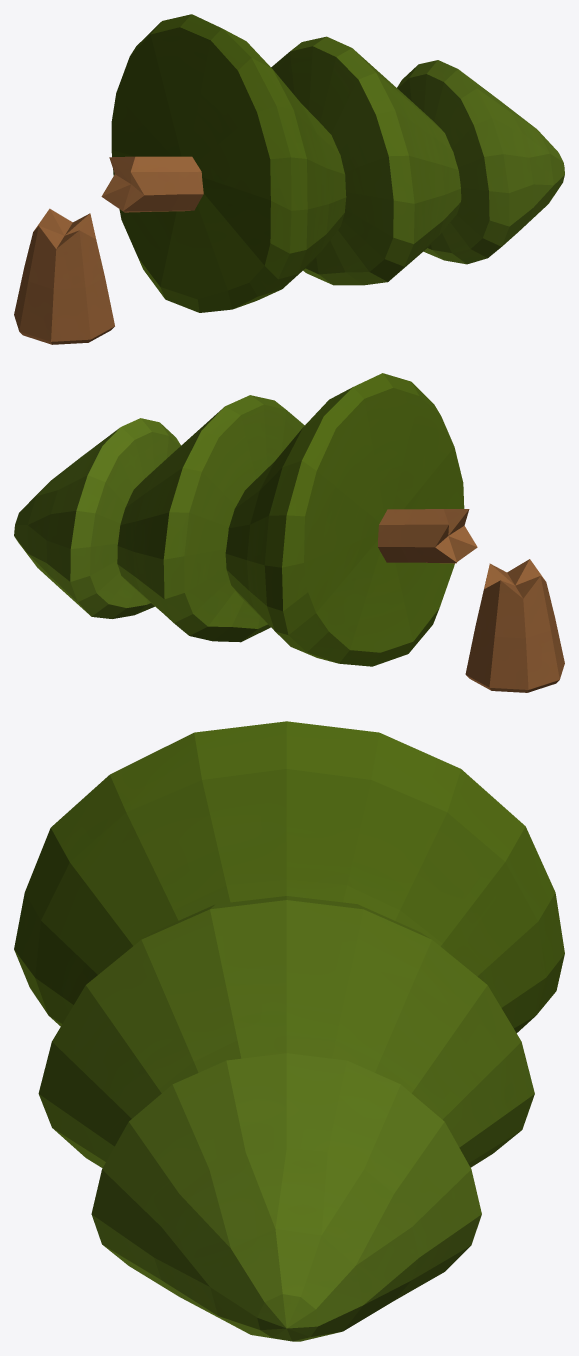
Rendered from spruce.02.glb.
The picture shows the model from 3 angles, top to bottom: view 1: azimuth 30°, elevation 25°; view 2: azimuth 150°, elevation 25°; view 3: azimuth 270°, elevation 25°; orthographic projection. The views are drawn at different scales.
Parts seen in each view (by area): view 1: spruce; view 2: spruce; view 3: spruce.
Boxes of the visible parts, left/top/right/bottom form: spruce: left=14, top=14, right=564, bottom=344; spruce: left=14, top=373, right=564, bottom=692; spruce: left=14, top=721, right=564, bottom=1341.
Size of the model in its own units: 1.67 by 0.7908 by 0.9333.
Materials: 1 (1 with a texture image).
